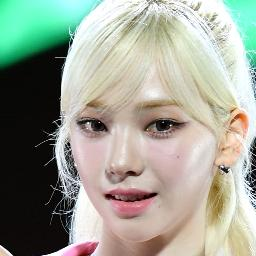face: (79, 96, 207, 230)
